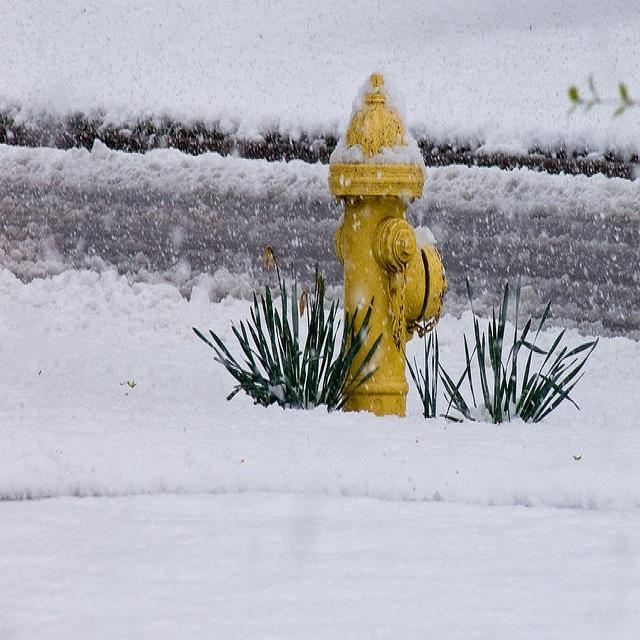fire_hydrant: (325, 70, 445, 410)
